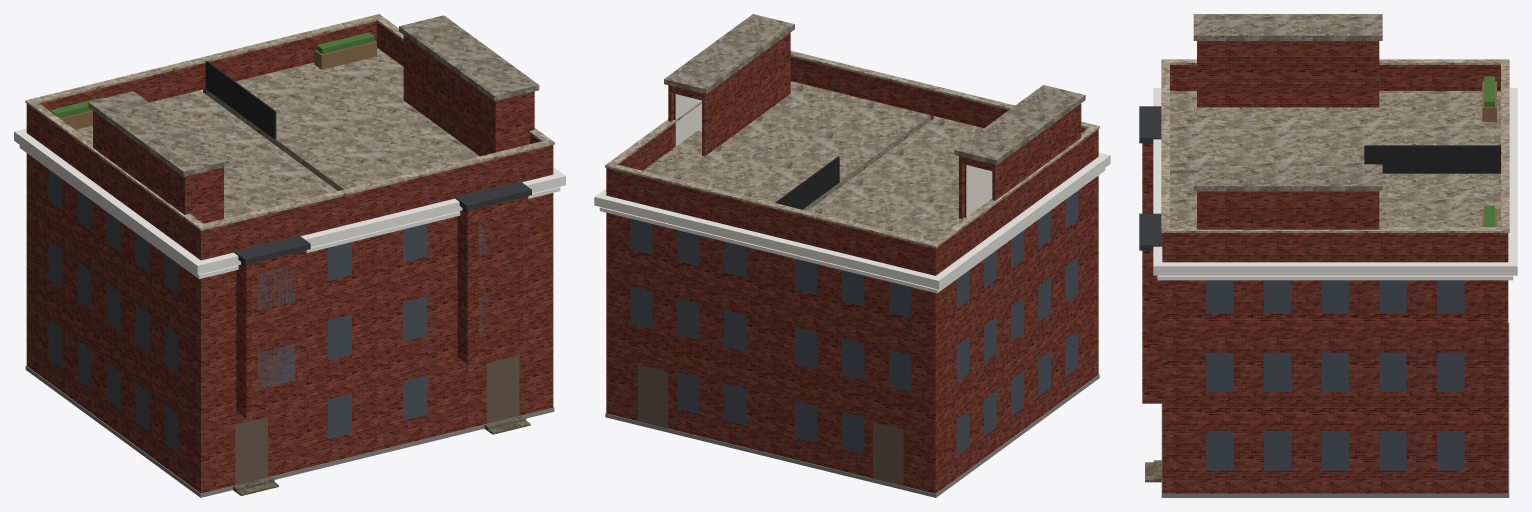
File: ns-rowhouses.towns-v1.lod1.glb
3 renders of one model, left to right at view 1: azimuth 30°, elevation 25°; view 2: azimuth 150°, elevation 25°; view 3: azimuth 270°, elevation 25°, orthographic. The views are drawn at different scales.
Visible parts, largest first — view 1: ns-rowhouses; view 2: ns-rowhouses; view 3: ns-rowhouses.
Part boxes in pixels (x1,y1,x2,y2): ns-rowhouses: (14,14,565,497); ns-rowhouses: (594,14,1110,497); ns-rowhouses: (1139,14,1517,497).
Bounding box in the file's own units: 14.64 × 11.95 × 13.12.
3 materials, 2 textured.
